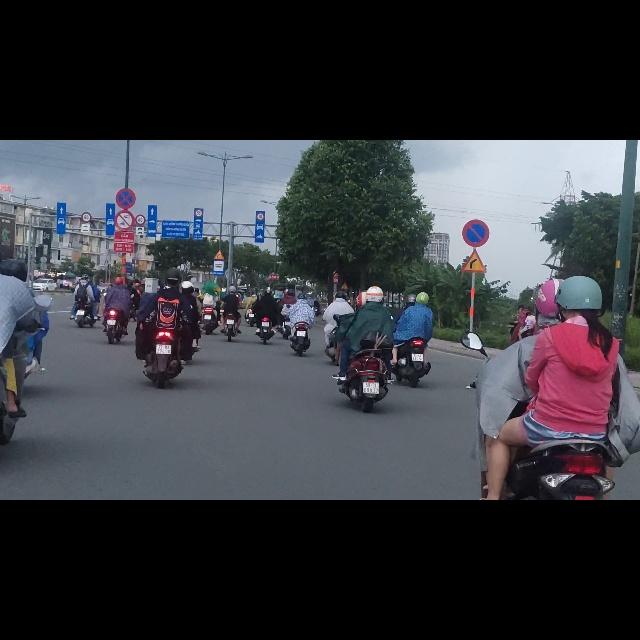bien_chi_dan: (462, 138, 490, 192), (461, 194, 487, 236), (115, 84, 136, 123), (114, 124, 135, 161), (213, 213, 225, 242), (212, 193, 225, 214), (135, 132, 146, 152), (81, 127, 91, 147), (135, 153, 144, 169), (194, 122, 203, 137), (256, 129, 264, 143)
